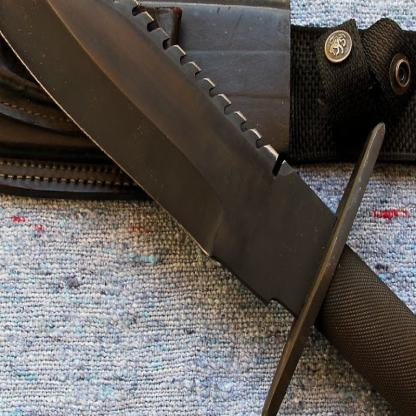knife: (0, 0, 331, 296)
